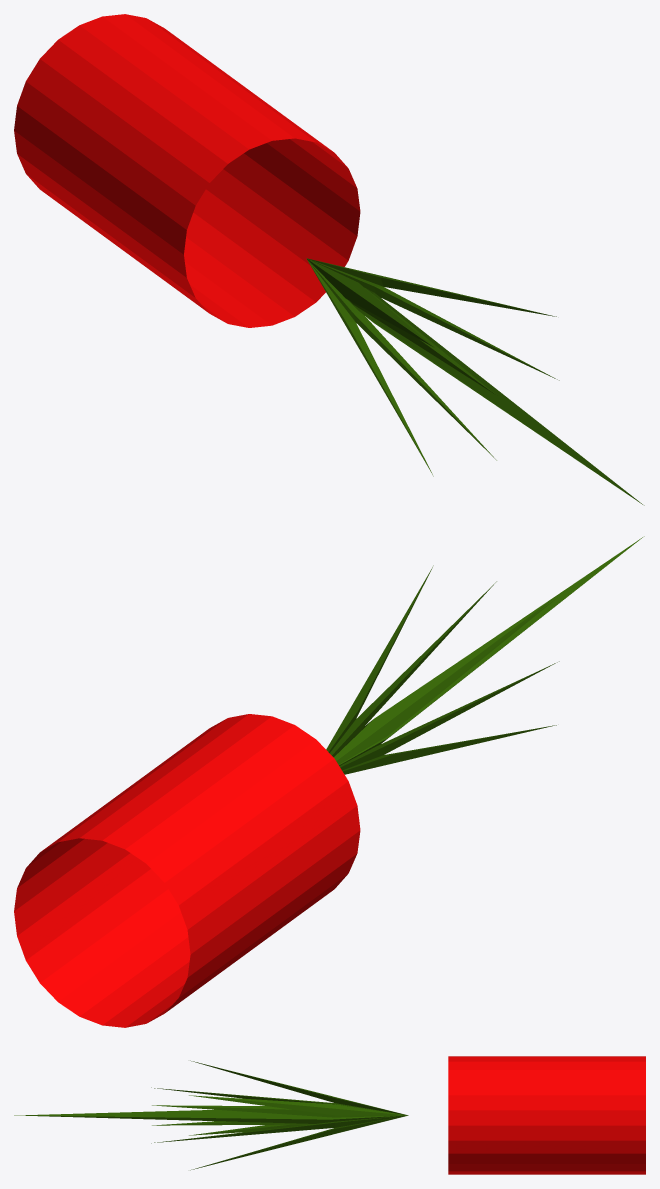
Rendered from Perennao100cm.obj.
The picture shows the model from 3 angles, top to bottom: view 1: azimuth 30°, elevation 25°; view 2: azimuth 150°, elevation 25°; view 3: azimuth 270°, elevation 25°; orthographic projection. The views are drawn at different scales.
Bounding box in the file's own units: 0.3 × 0.3 × 1.6.
